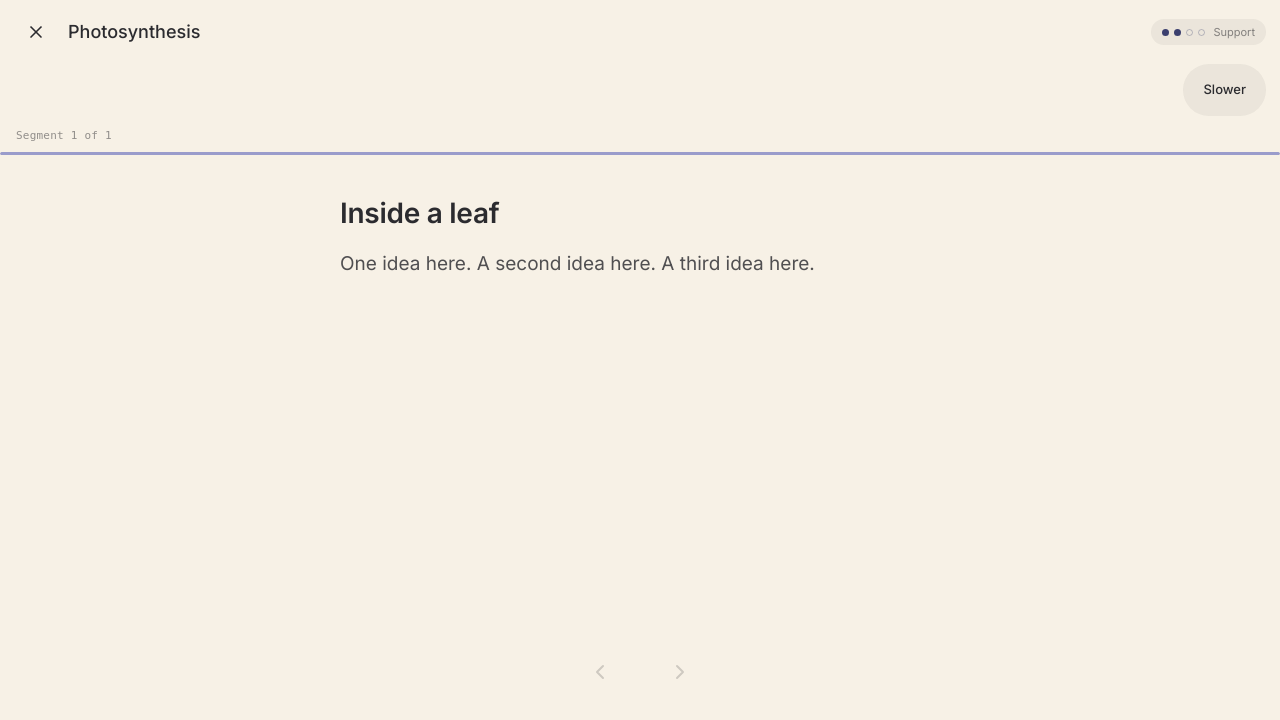
Test: a child asking for less at a time, on a live lesson › breaks the body into parts when the child asks
Check: the button "Tap to continue" is not shown
Click the button "Slower". click: point(1225, 90)
box: x1=1188 y1=68 x2=1262 y2=112
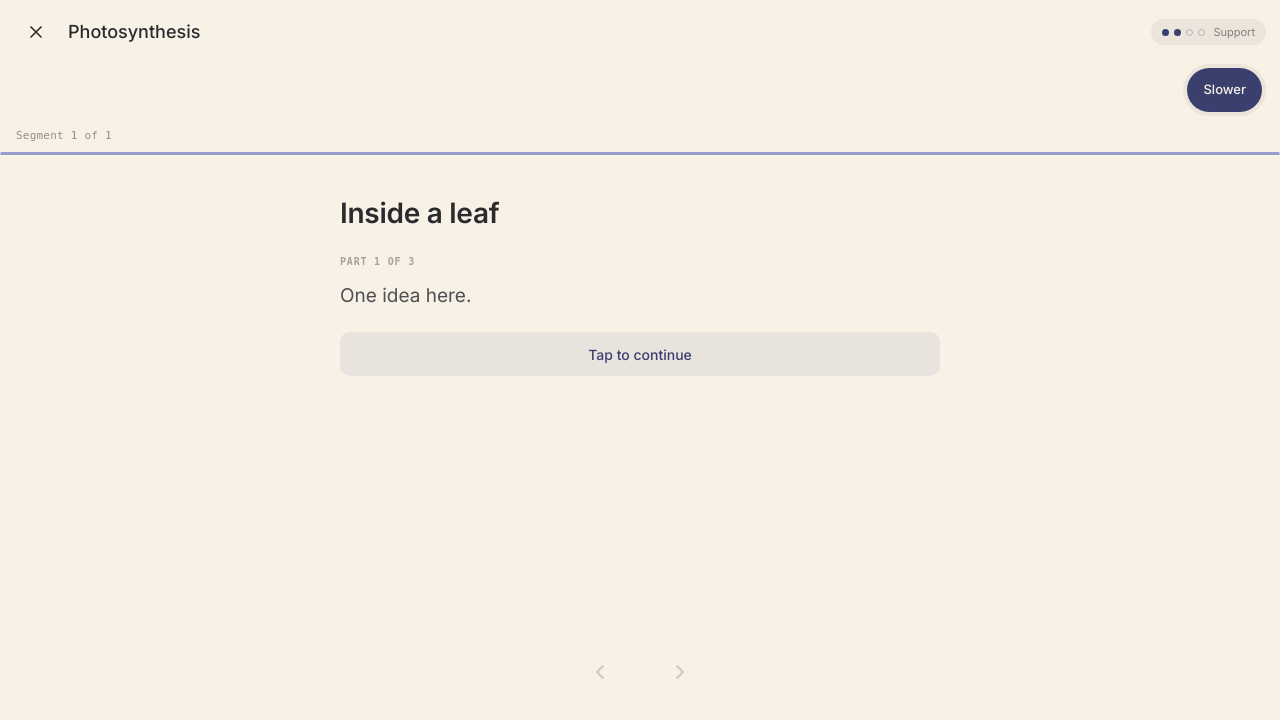
Check: the button "Tap to continue" is shown, box x1=340 y1=332 x2=940 y2=376
